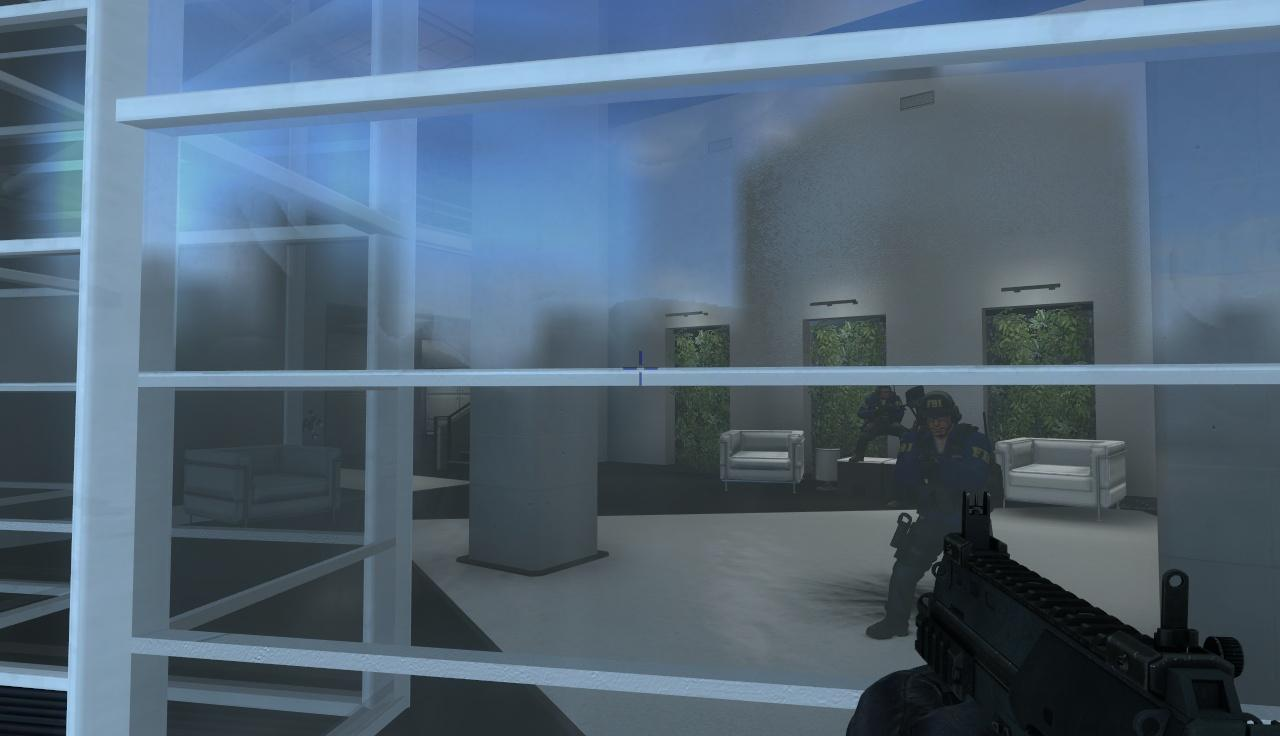ct: (905, 388, 998, 491), (860, 386, 906, 433)
cthead: (922, 392, 958, 436), (877, 386, 891, 400)
rifle: (921, 495, 1280, 736)
